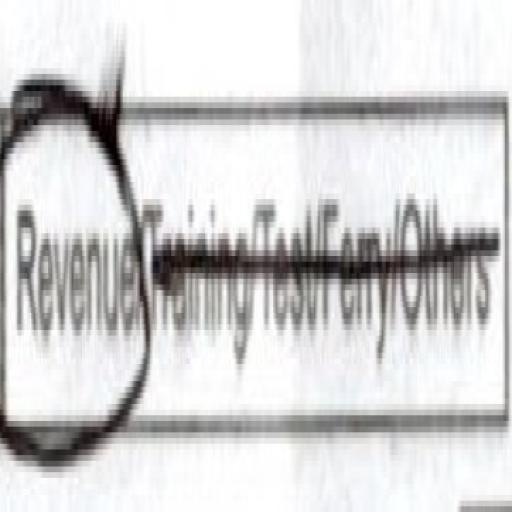check: (0, 34, 149, 506)
